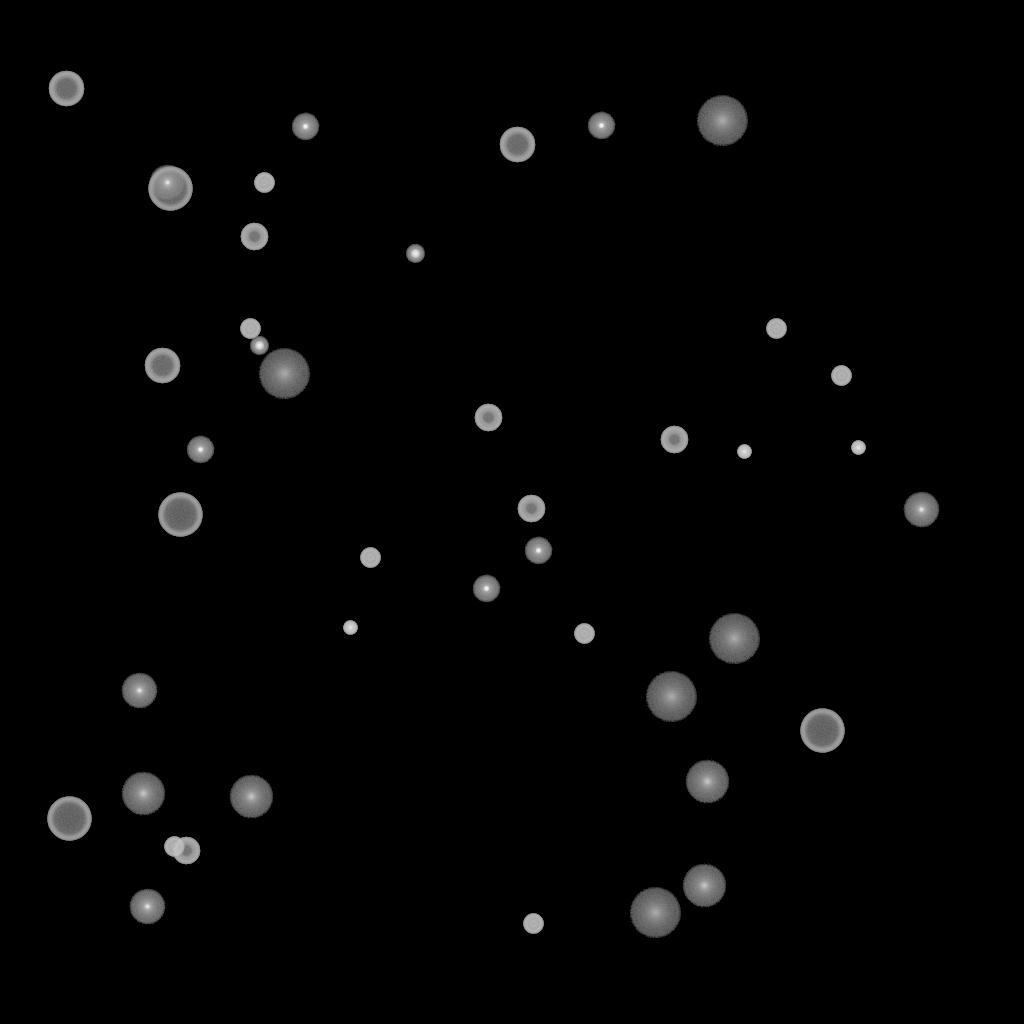depth:-10: (524, 537, 552, 565), (472, 575, 500, 603), (291, 113, 319, 141), (587, 112, 615, 140), (186, 436, 214, 464)
depth:-20: (250, 337, 268, 355), (406, 245, 424, 263)
depth:-30: (851, 441, 865, 455), (737, 445, 751, 459), (343, 621, 357, 635)
depth:-40: (766, 319, 786, 339), (164, 837, 184, 857), (254, 173, 274, 193), (831, 366, 851, 386), (240, 319, 260, 339), (574, 624, 594, 644), (360, 548, 380, 568), (523, 914, 543, 934)
depth:-50: (474, 404, 502, 432), (240, 223, 268, 251), (517, 495, 545, 523), (660, 426, 688, 454), (172, 837, 200, 865)
depth:-60: (144, 348, 180, 384), (499, 127, 535, 163), (48, 71, 84, 107)
depth:-70: (47, 797, 91, 841), (158, 493, 202, 537), (800, 709, 844, 753), (148, 167, 192, 211)
depth:0: (149, 165, 185, 201), (129, 889, 165, 925), (903, 492, 939, 528), (121, 673, 157, 709)
depth:10: (121, 772, 165, 816), (682, 864, 726, 908), (685, 760, 729, 804), (229, 775, 273, 819)
depth:20: (696, 96, 748, 146), (258, 349, 310, 399), (629, 888, 681, 938), (708, 614, 760, 664), (645, 672, 697, 722)
